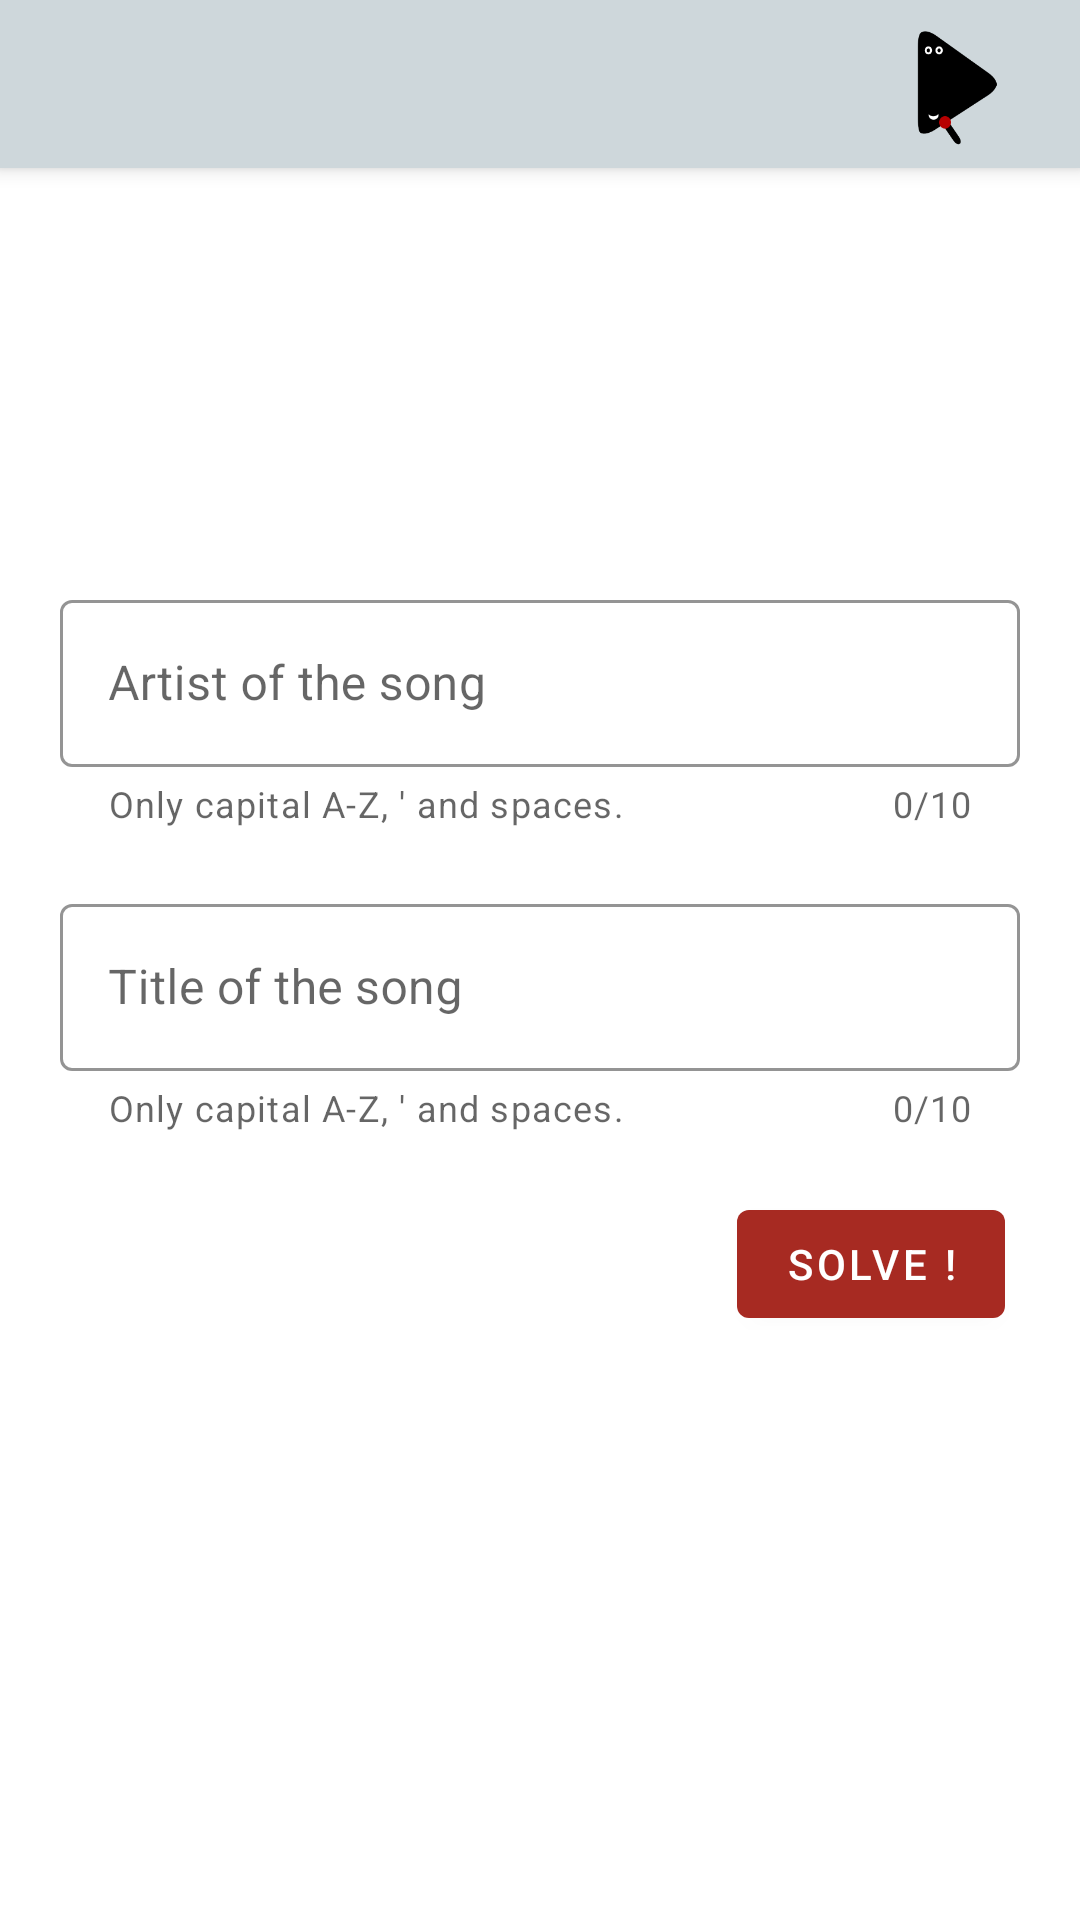

Icons on this 1080px×1920px Android screen, each with its box as bbox=[x1, y1, x2, y2]:
play master: bbox=[917, 31, 997, 145]
